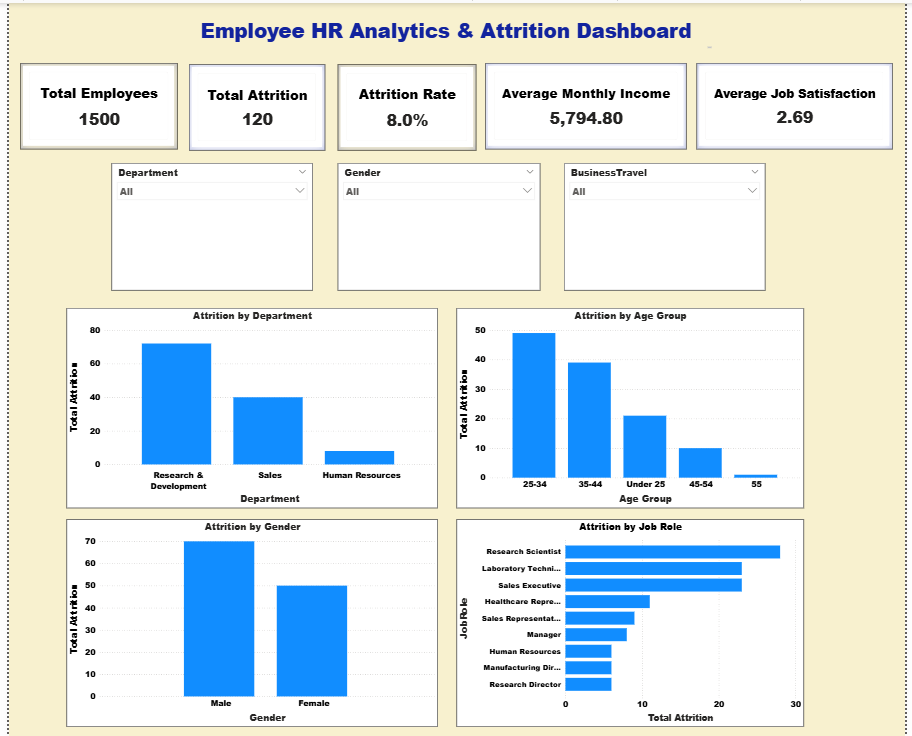

This screenshot's page, from the dashboard's own definition file:
{"tool":"powerbi","page":{"name":"HR Overvie","canvas":[1825,1500],"ordinal":0},"visuals":[{"type":"cardVisual","fields":{"Data":["DAX Measures.Total Employees"]},"box":[22.9,122.3,321,175.8],"z":1000},{"type":"cardVisual","fields":{"Data":["DAX Measures.Total Attrition"]},"box":[366.8,124.8,277.7,175.8],"z":2000},{"type":"cardVisual","fields":{"Data":["DAX Measures.Attrition Rate"]},"box":[670,124.8,282.8,175.8],"z":3000},{"type":"cardVisual","fields":{"Data":["DAX Measures.Average Monthly Income"]},"box":[970.6,122.3,410.2,175.8],"z":4000},{"type":"cardVisual","fields":{"Data":["DAX Measures.Average Job Satisfaction"]},"box":[1401.2,122.3,400,175.8],"z":5000},{"type":"clusteredColumnChart","title":"Attrition by Department","fields":{"Category":["EmployeeData.Department"],"Y":["DAX Measures.Total Attrition"]},"box":[117.2,621.6,756.6,407.6],"z":6000},{"type":"clusteredColumnChart","title":"Attrition by Age Group","fields":{"Y":["DAX Measures.Total Attrition"],"Category":["EmployeeData.Age Group"]},"box":[912,621.6,708.2,407.6],"z":7000},{"type":"clusteredColumnChart","title":"Attrition by Gender","fields":{"Y":["DAX Measures.Total Attrition"],"Category":["EmployeeData.Gender"]},"box":[117.2,1052.1,756.6,422.9],"z":8000},{"type":"clusteredBarChart","title":"Attrition by Job Role","fields":{"Category":["EmployeeData.JobRole"],"Y":["DAX Measures.Total Attrition"]},"box":[912,1052.1,708.2,422.9],"z":9000},{"type":"slicer","fields":{"Values":["EmployeeData.Department"]},"box":[208.9,326.1,410.2,259.9],"z":10000},{"type":"slicer","fields":{"Values":["EmployeeData.Gender"]},"box":[670,326.1,412.7,259.9],"z":11000},{"type":"slicer","fields":{"Values":["EmployeeData.BusinessTravel"]},"box":[1131.1,326.1,410.2,259.9],"z":12000},{"type":"textbox","title":"Employee HR Analytics & Attrition Dashboard","box":[343.9,28,1092.9,68.8],"z":13000}]}

Visuals, with their boxes in screenshot pixels (x1, y1, x2, y2), scaled from the page's 1825x1500 canvas onto the 912x736 screenshot:
cardVisual - DAX Measures.Total Employees: {"x1": 11, "y1": 60, "x2": 172, "y2": 146}
cardVisual - DAX Measures.Total Attrition: {"x1": 183, "y1": 61, "x2": 322, "y2": 147}
cardVisual - DAX Measures.Attrition Rate: {"x1": 335, "y1": 61, "x2": 476, "y2": 147}
cardVisual - DAX Measures.Average Monthly Income: {"x1": 485, "y1": 60, "x2": 690, "y2": 146}
cardVisual - DAX Measures.Average Job Satisfaction: {"x1": 700, "y1": 60, "x2": 900, "y2": 146}
"Attrition by Department" clusteredColumnChart: {"x1": 59, "y1": 305, "x2": 437, "y2": 505}
"Attrition by Age Group" clusteredColumnChart: {"x1": 456, "y1": 305, "x2": 810, "y2": 505}
"Attrition by Gender" clusteredColumnChart: {"x1": 59, "y1": 516, "x2": 437, "y2": 724}
"Attrition by Job Role" clusteredBarChart: {"x1": 456, "y1": 516, "x2": 810, "y2": 724}
slicer - EmployeeData.Department: {"x1": 104, "y1": 160, "x2": 309, "y2": 288}
slicer - EmployeeData.Gender: {"x1": 335, "y1": 160, "x2": 541, "y2": 288}
slicer - EmployeeData.BusinessTravel: {"x1": 565, "y1": 160, "x2": 770, "y2": 288}
"Employee HR Analytics & Attrition Dashboard" textbox: {"x1": 172, "y1": 14, "x2": 718, "y2": 47}
